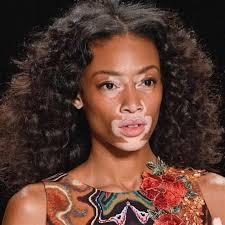vitiligo: (106, 71, 166, 155)
